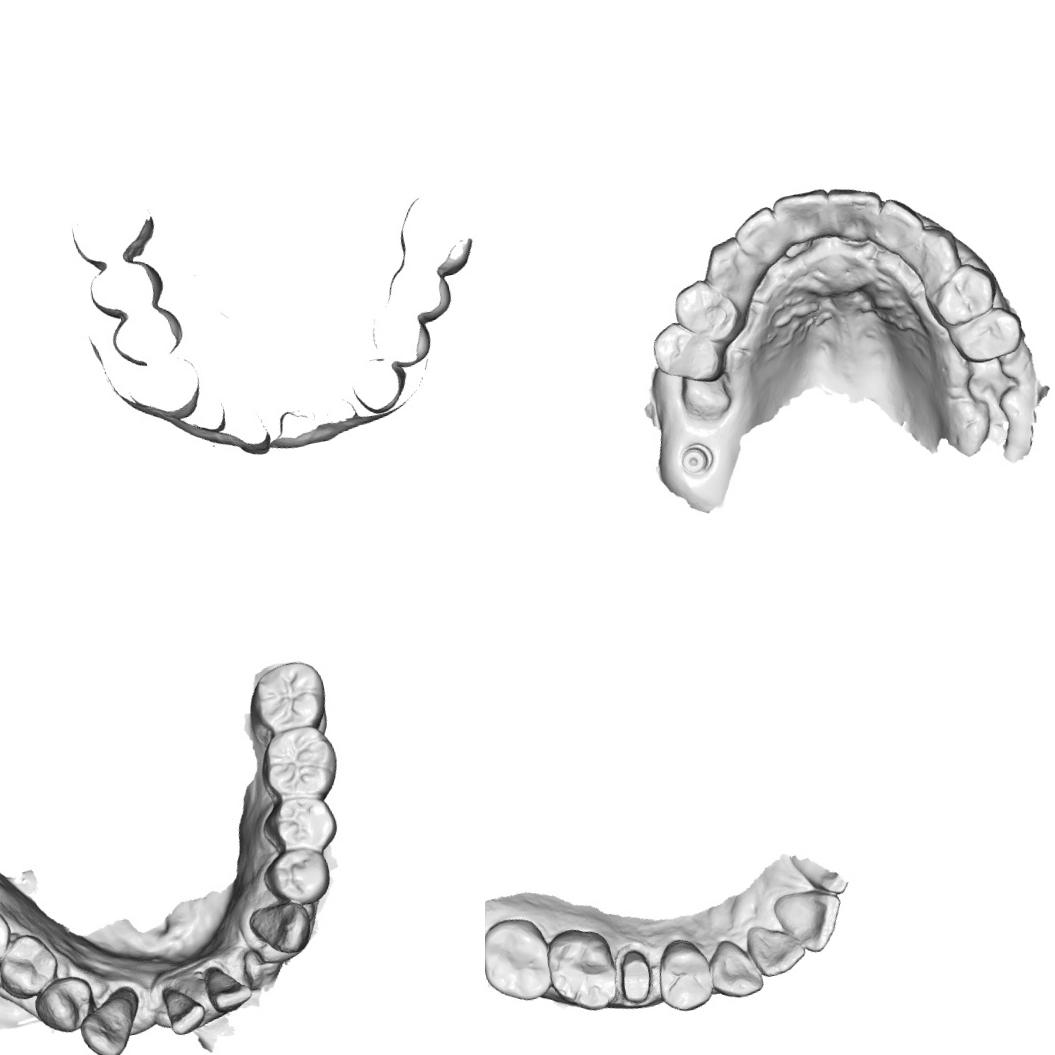canine: (244, 894, 317, 961), (76, 987, 146, 1055), (704, 932, 766, 1002), (694, 232, 758, 296), (914, 218, 966, 280)
crown: (610, 938, 659, 1008)
implant: (674, 436, 716, 480)
incisor: (770, 883, 850, 959), (768, 183, 839, 246), (743, 916, 810, 981), (726, 203, 788, 269), (826, 178, 884, 240), (198, 960, 253, 1014), (876, 193, 925, 252), (158, 980, 206, 1036)
molar: (539, 920, 624, 1020), (254, 721, 343, 805), (485, 911, 560, 1009), (244, 656, 332, 734), (0, 890, 19, 988)
premolar: (646, 312, 729, 392), (943, 300, 1029, 370), (648, 932, 718, 1018), (667, 272, 744, 348), (924, 256, 1003, 329), (268, 842, 342, 910), (262, 791, 337, 857), (28, 970, 96, 1039), (0, 931, 62, 996)
